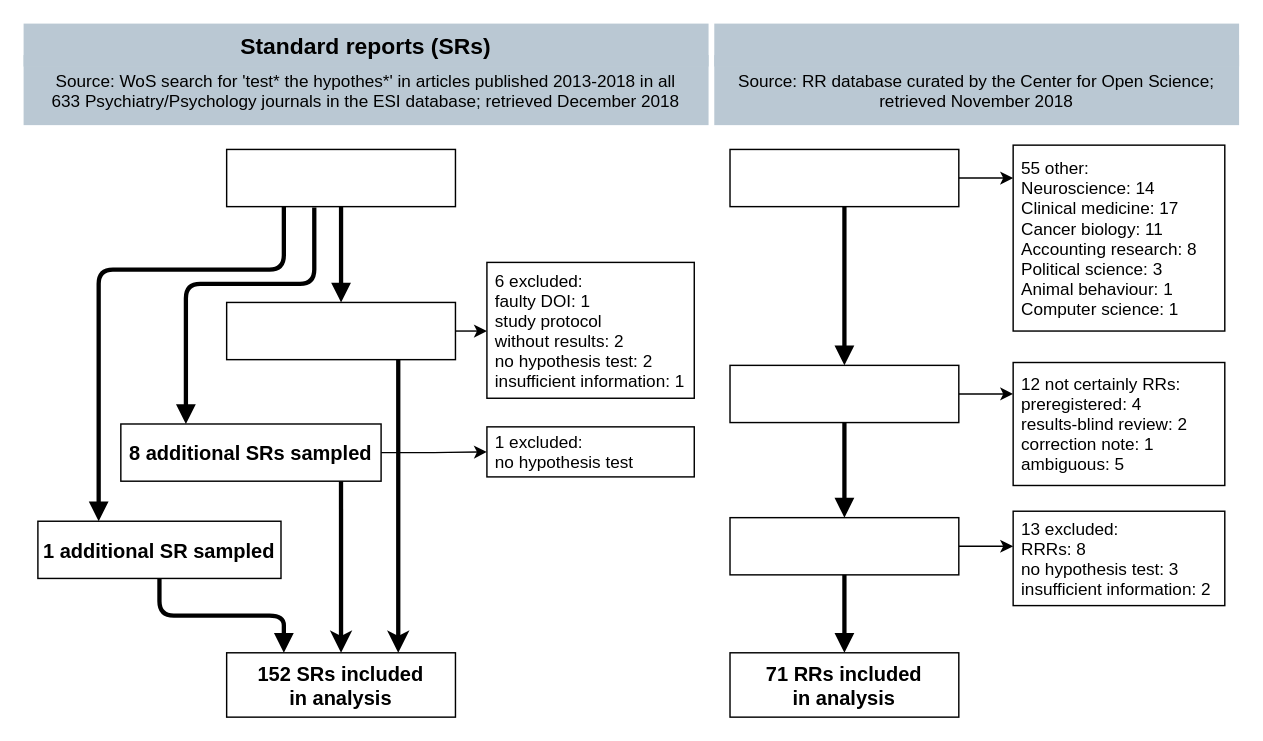
Some shapes in this 1263 by 741 pixel diagram are drawn without their labels. The centre of each missing label's shape, as x and y in pixels:
"150 randomly sampled" goes at (x=340, y=330).
"151 database entries" goes at (x=844, y=177).
"1919 search results" goes at (x=340, y=177).
"84 certain RRs" goes at (x=844, y=545).
"96 Psychology" goes at (x=844, y=393).
"Registered Reports (RRs)" goes at (x=976, y=44).
